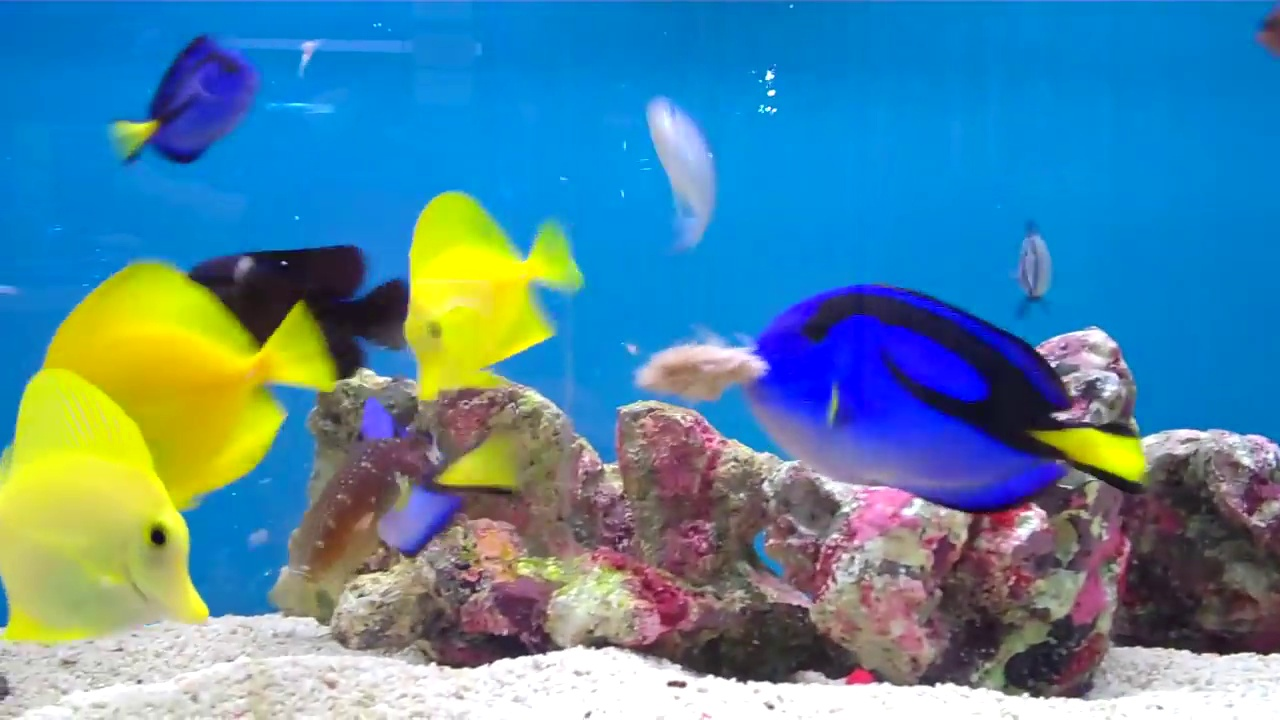blue tang surgeonfish: (716, 271, 1152, 534), (111, 31, 257, 156)
saddle butterfly fish: (21, 260, 328, 519), (0, 380, 220, 656), (399, 191, 576, 399)
